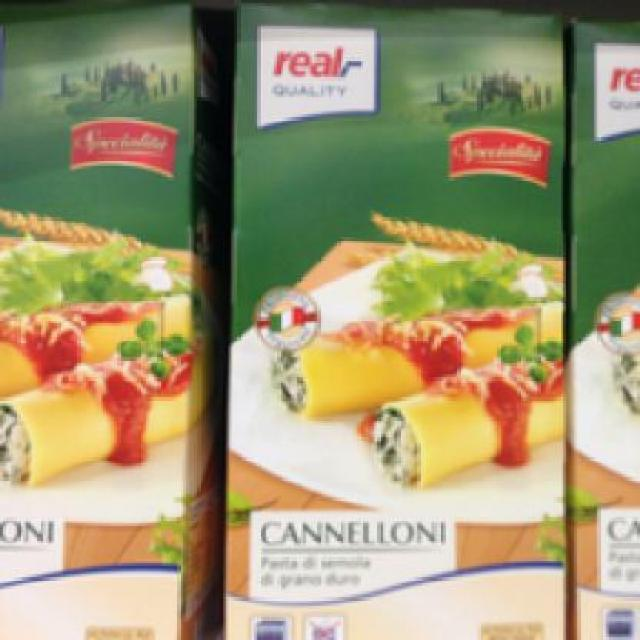Pasta: (221, 0, 569, 635), (0, 0, 220, 637)
